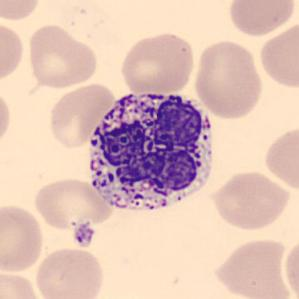Basophil: (79, 82, 222, 223)
Platelets: (72, 222, 96, 248)
RBC: (191, 38, 266, 121), (208, 168, 292, 232), (212, 235, 294, 299), (118, 30, 196, 96), (25, 22, 100, 90), (46, 81, 116, 150), (31, 175, 114, 230), (33, 244, 106, 299), (0, 201, 46, 274), (257, 19, 299, 90), (226, 0, 297, 38), (261, 123, 299, 192), (0, 20, 27, 84), (0, 268, 46, 299), (282, 235, 299, 299), (0, 0, 42, 23), (0, 86, 13, 149)
